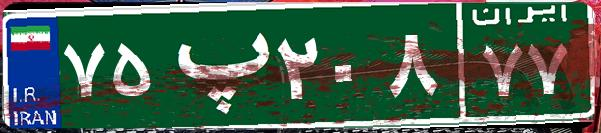0: (330, 28, 385, 110)
2: (273, 28, 330, 110)
5: (110, 28, 158, 105)
7: (57, 26, 110, 107), (475, 38, 525, 113), (525, 38, 570, 115)
8: (385, 28, 445, 110)
پ: (158, 15, 273, 115)
